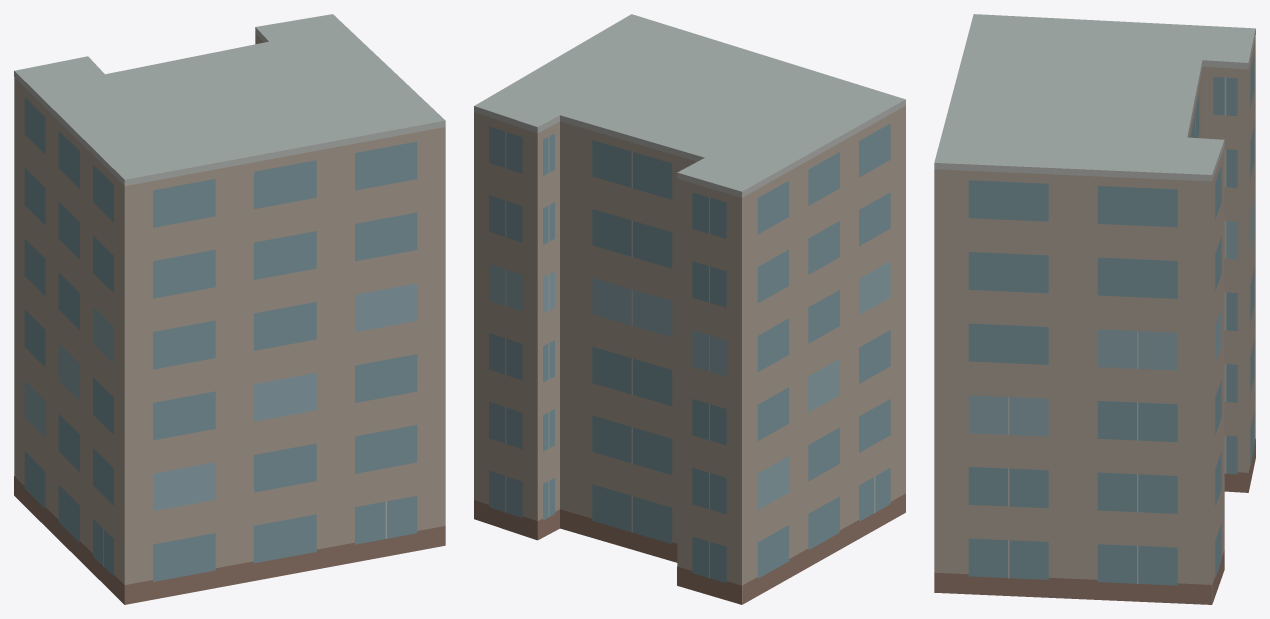
Rendered from survey-upis-32745206.glb.
3 renders of one model, left to right at view 1: azimuth 30°, elevation 25°; view 2: azimuth 150°, elevation 25°; view 3: azimuth 270°, elevation 25°, orthographic. The views are drawn at different scales.
Visible parts, largest first — view 1: survey-upis-32745206.tmp; view 2: survey-upis-32745206.tmp; view 3: survey-upis-32745206.tmp.
Boxes of the visible parts, x1,y1,x2,y2 form: survey-upis-32745206.tmp: [14, 14, 445, 604]; survey-upis-32745206.tmp: [474, 14, 905, 604]; survey-upis-32745206.tmp: [934, 14, 1255, 604].
Size of the model in its own units: 13.18 by 16.4 by 11.13.
